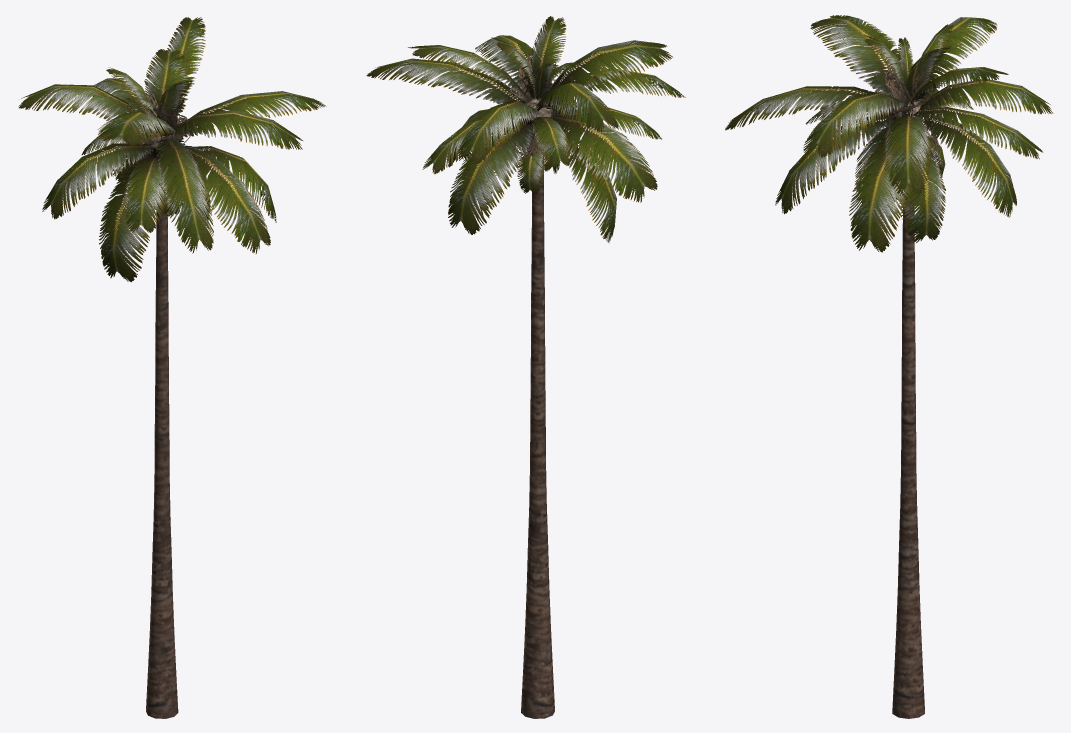
The model's file is palm_tree_v2.glb.
3 renders of one model, left to right at view 1: azimuth 30°, elevation 25°; view 2: azimuth 150°, elevation 25°; view 3: azimuth 270°, elevation 25°, orthographic. The views are drawn at different scales.
Visible parts, largest first — view 1: palm_tree; view 2: palm_tree; view 3: palm_tree.
Part boxes in pixels (box(x1,y1,x2,y2)): palm_tree: box(18, 17, 326, 718); palm_tree: box(366, 16, 685, 718); palm_tree: box(725, 15, 1053, 718).
Bounding box in the file's own units: 19.85 × 43.97 × 19.77.
1 material, 1 textured.
